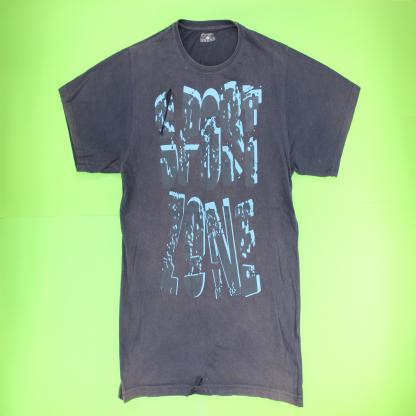hole: (160, 85, 172, 139), (186, 375, 204, 399)
